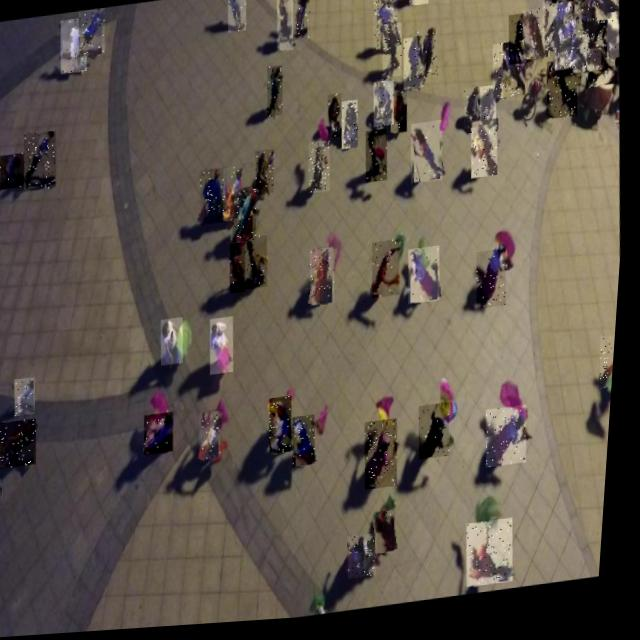Person: (470, 525, 524, 594), (489, 411, 536, 475), (367, 423, 408, 495), (409, 126, 448, 189), (552, 22, 595, 78), (22, 131, 61, 192), (545, 65, 582, 127), (0, 419, 44, 470), (409, 251, 447, 310), (570, 18, 605, 82), (477, 255, 513, 316), (421, 408, 458, 466), (539, 0, 576, 58), (373, 244, 407, 304), (199, 169, 233, 228), (470, 126, 503, 186), (586, 2, 621, 58), (584, 45, 621, 97), (57, 18, 90, 75), (310, 251, 341, 311), (370, 0, 401, 58), (520, 14, 553, 68), (211, 319, 241, 378), (232, 189, 262, 246), (272, 400, 301, 458), (501, 47, 530, 104), (76, 8, 108, 58), (491, 48, 519, 105), (245, 238, 274, 293), (573, 0, 609, 44), (353, 538, 387, 584), (507, 19, 536, 72), (148, 414, 182, 457), (308, 144, 335, 198), (365, 134, 392, 188), (401, 41, 428, 95), (296, 419, 324, 471), (380, 27, 405, 83), (203, 413, 229, 464), (415, 33, 441, 84), (558, 46, 585, 95), (163, 320, 190, 368), (223, 169, 246, 225), (274, 0, 297, 55), (378, 515, 405, 559), (373, 85, 398, 132), (255, 152, 279, 198), (340, 104, 362, 154), (289, 0, 314, 44), (265, 68, 286, 120), (601, 342, 620, 397), (231, 245, 251, 297), (0, 153, 28, 190), (17, 377, 42, 416), (463, 93, 486, 135), (592, 0, 622, 30), (391, 95, 411, 139), (479, 91, 500, 132), (327, 98, 346, 143), (226, 0, 249, 36), (605, 19, 622, 67), (604, 33, 623, 75), (548, 0, 586, 11), (406, 0, 430, 12)
